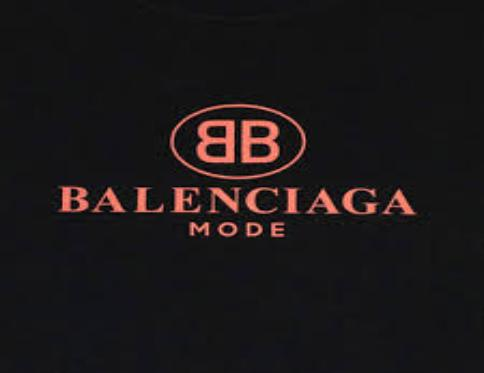BALENCIAGA: (58, 182, 417, 215), (193, 119, 279, 164)
